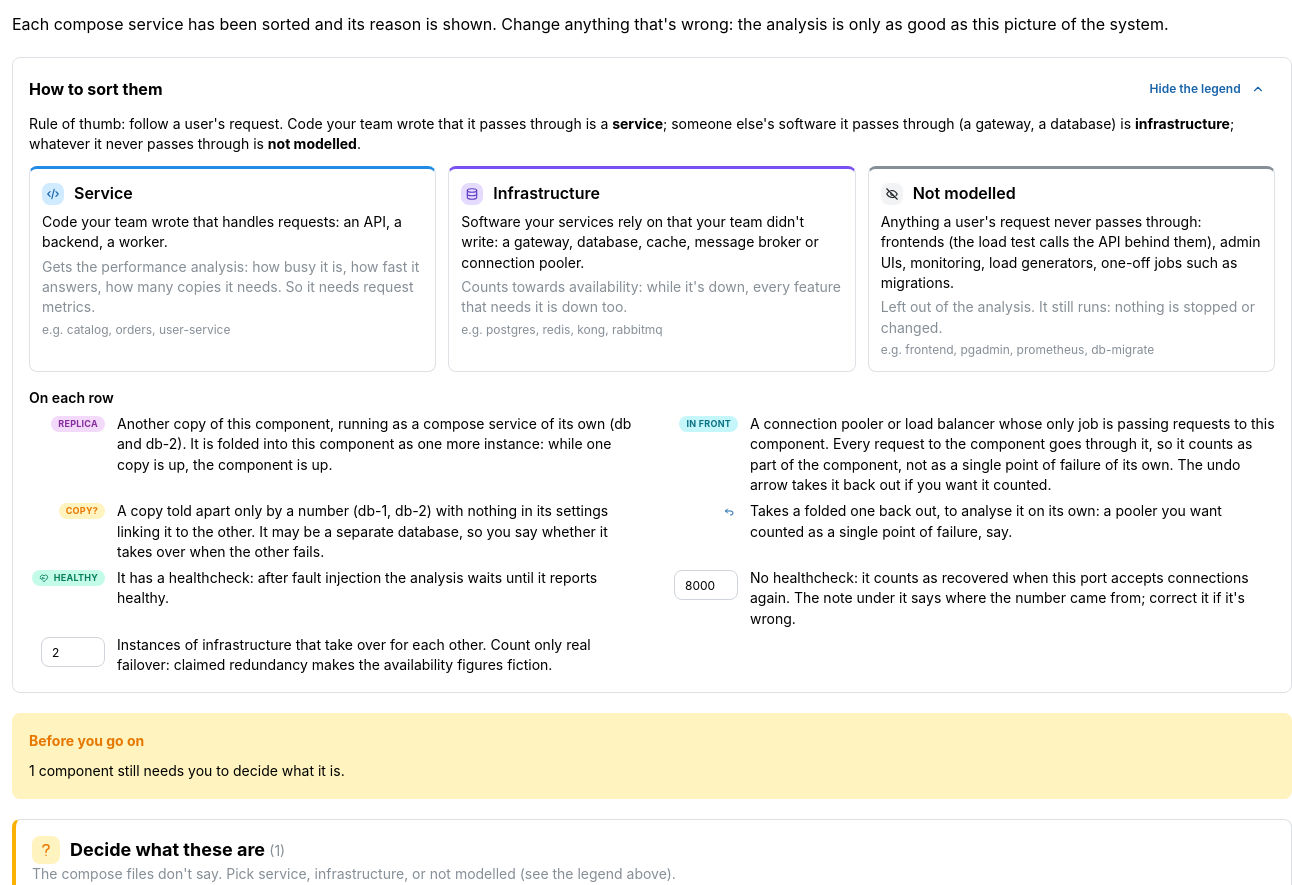
Test: ComponentsStep › explains the groups, and can be folded away
Expected: the text "Rule of thumb: follow a user's request" is shown, [29,115,612,132]
Expected: the text "Counts towards availability: while it's down, every feature that needs it is down too." is shown, [461,278,841,315]
Click the button "Hide the legend".
click(1205, 89)  # box [1135,74,1275,104]
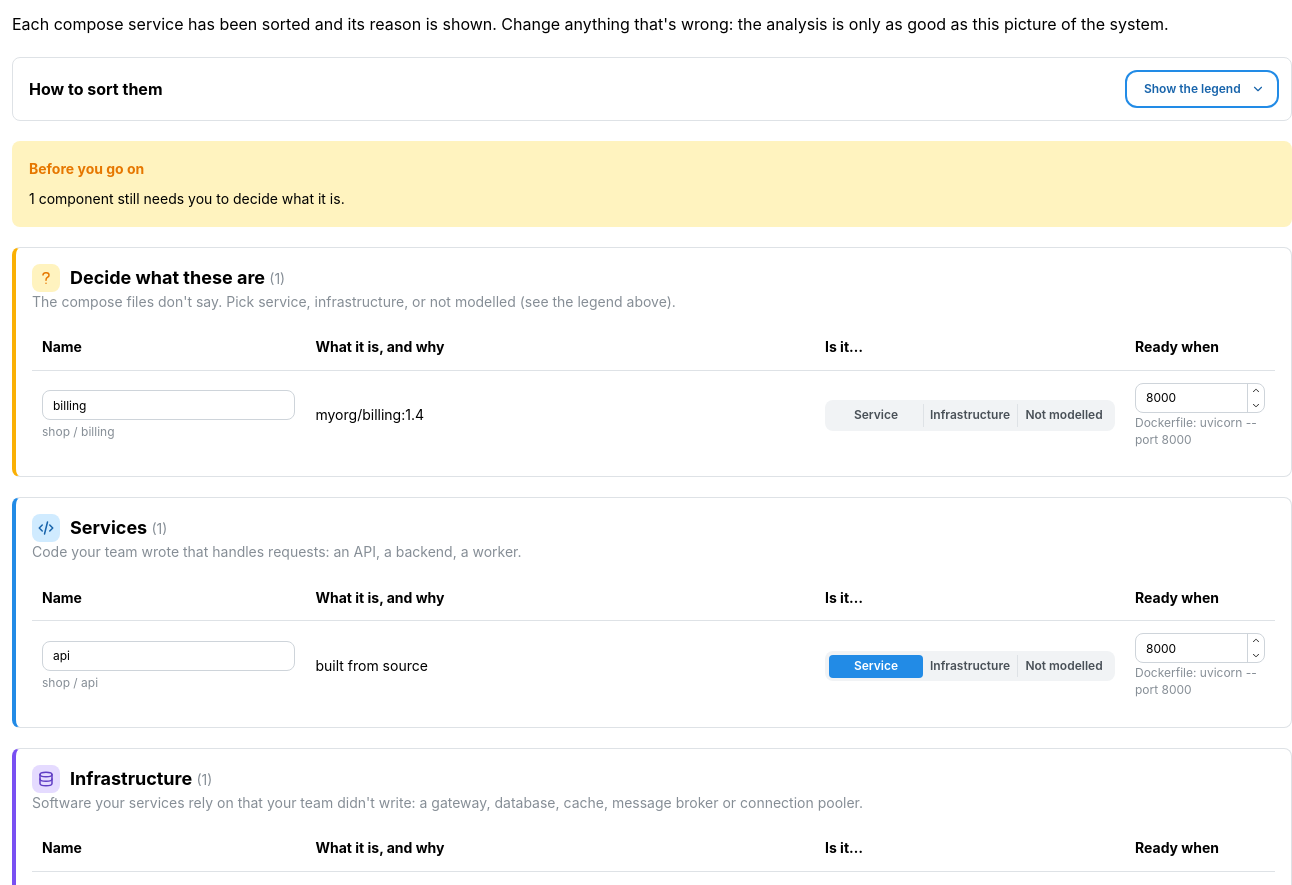
Now the button "Show the legend" is shown, box [1129,74,1275,104]
